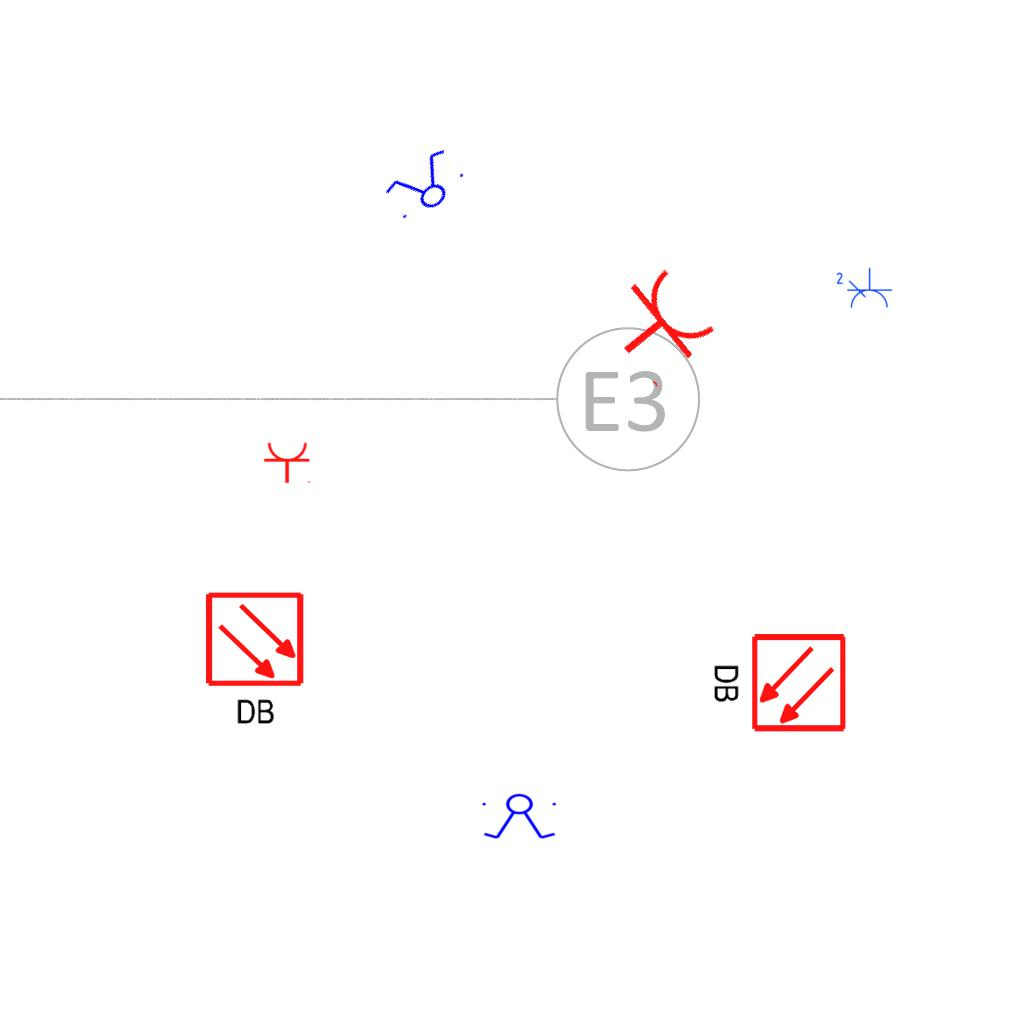DB_Melder_in_Doppelboden_mit_Revisionsoeffnung_mind_40_x_40_cm: (704, 627, 853, 741), (199, 585, 313, 734)
Schukosteckdose_einfach: (594, 259, 725, 393), (263, 441, 313, 484)
Schukosteckdose_mehrfach: (833, 267, 893, 311)
Serienschalter: (376, 141, 474, 231), (478, 793, 562, 841)
